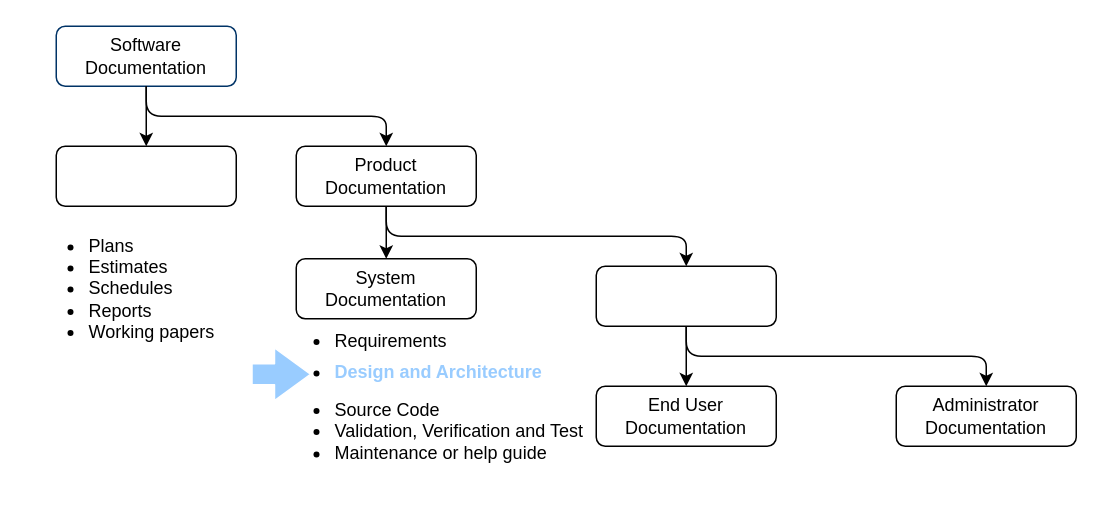
The diagram is 1103 pixels wide and 507 high, and some of its shapes have lost their labels. The shapes that lost their labels are listed below. From the top down, each one's centre as x and y in pixels, then its label:
At (145,175): "Process Documentation".
At (685,295): "User Documentation".
